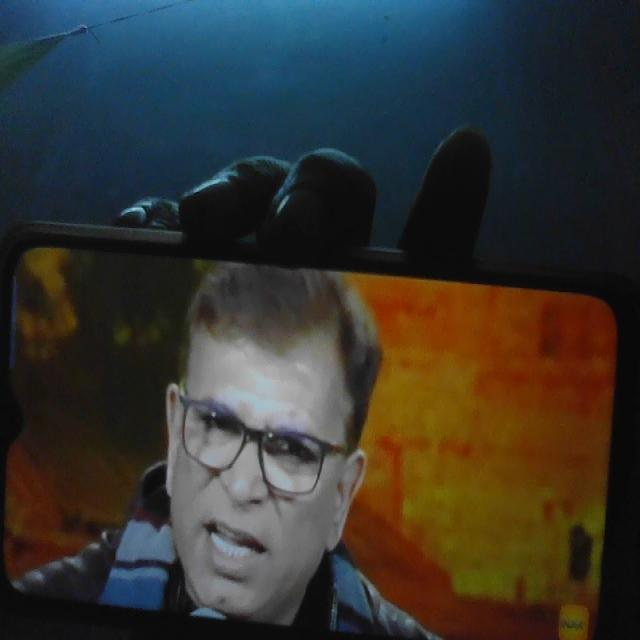fake: (154, 236, 359, 623)
